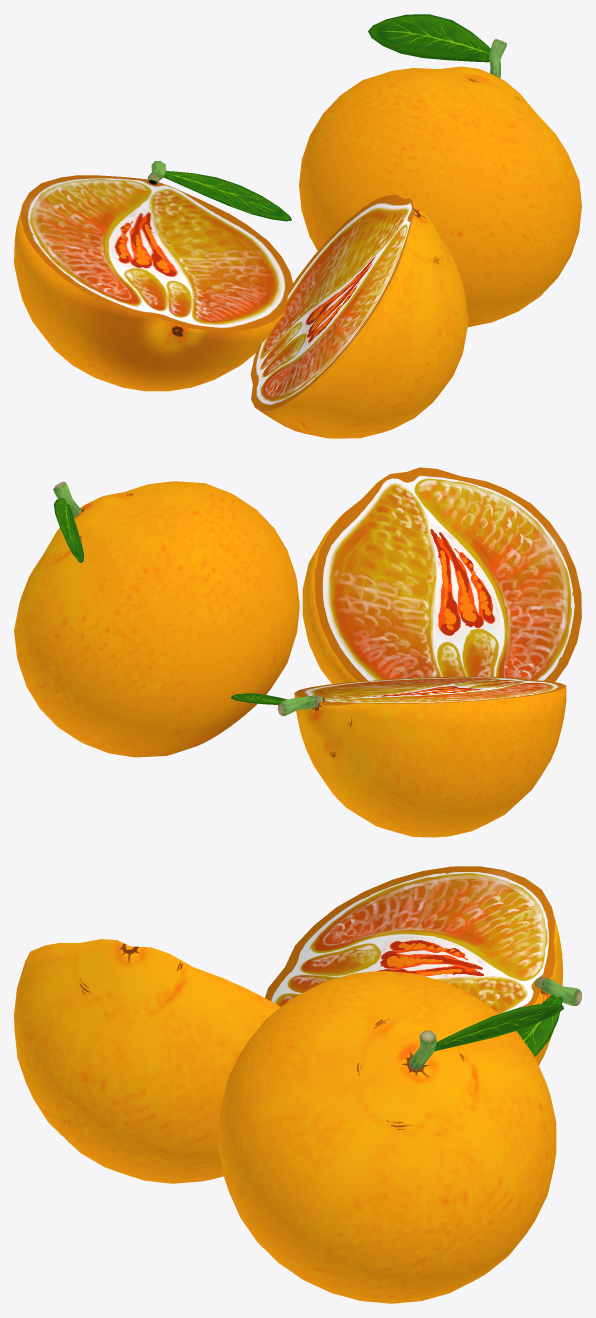
Rendered from Orange.gltf.
3 views of the same model, one above another, from view 1: azimuth 30°, elevation 25°; view 2: azimuth 150°, elevation 25°; view 3: azimuth 270°, elevation 25° (orthographic). The views are drawn at different scales.
Visible parts, largest first — view 1: Orange, OrangeSlice2, OrangeSlice1; view 2: Orange, OrangeSlice1, OrangeSlice2; view 3: Orange, OrangeSlice1, OrangeSlice2.
Boxes of the visible parts, x1=… form: Orange: x1=299, y1=14, x2=581, y2=327; OrangeSlice2: x1=14, y1=161, x2=292, y2=391; OrangeSlice1: x1=250, y1=195, x2=468, y2=438; Orange: x1=14, y1=481, x2=299, y2=757; OrangeSlice1: x1=302, y1=467, x2=581, y2=683; OrangeSlice2: x1=231, y1=676, x2=566, y2=837; Orange: x1=218, y1=970, x2=563, y2=1303; OrangeSlice1: x1=14, y1=939, x2=280, y2=1183; OrangeSlice2: x1=265, y1=866, x2=581, y2=1065.
Size of the model in its own units: 3.89 by 1.85 by 3.13.
Materials: 3 (3 with a texture image).
